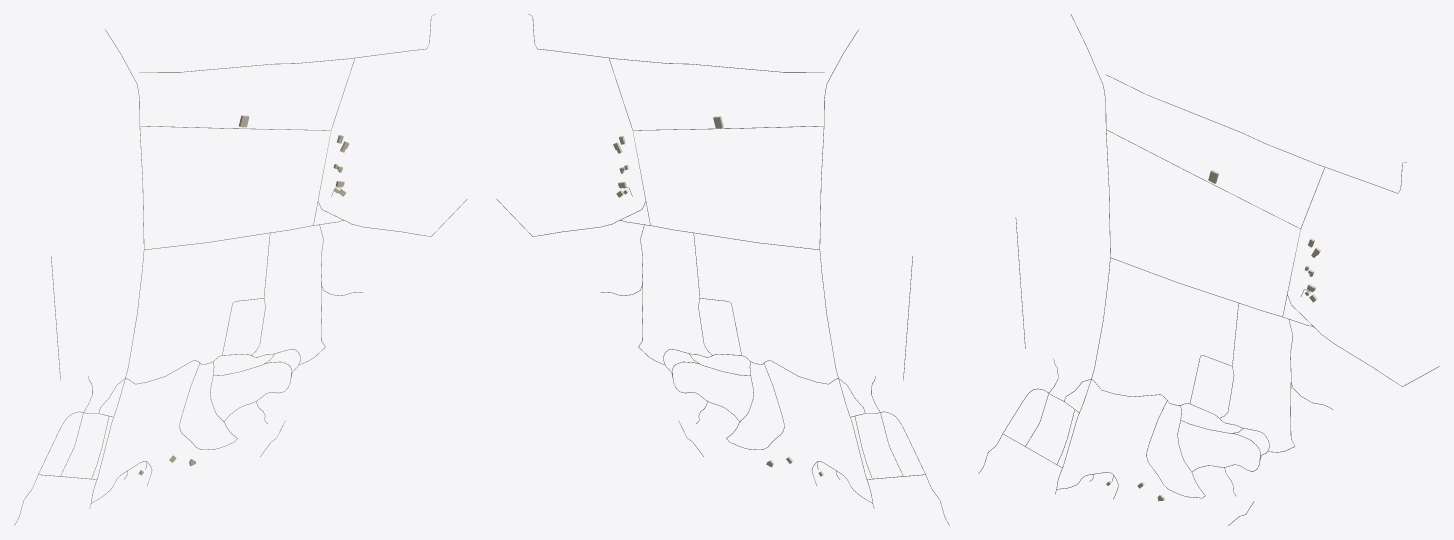
The model's file is historic-palestine-06_25_3477_3190.glb.
3 views of the same model, side by side, from view 1: azimuth 30°, elevation 25°; view 2: azimuth 150°, elevation 25°; view 3: azimuth 330°, elevation 25° (orthographic).
Size of the model in its own units: 1402 by 1405 by 8.7.
